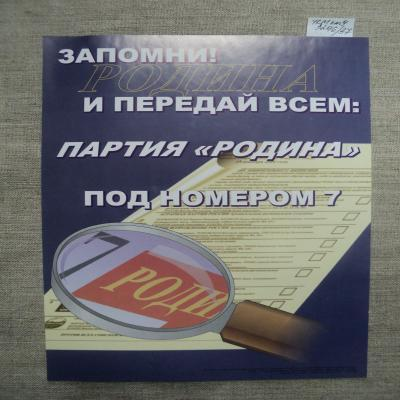graphics: (40, 35, 373, 384)
